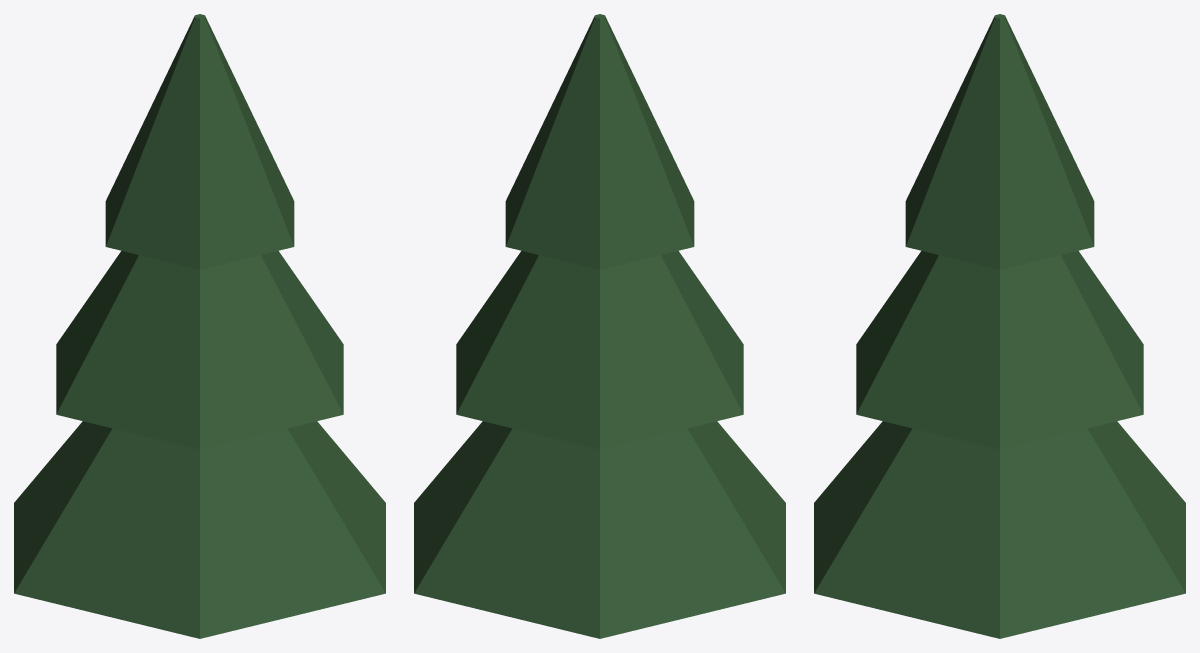
File: pine.glb
The picture shows the model from 3 angles, left to right: view 1: azimuth 30°, elevation 25°; view 2: azimuth 150°, elevation 25°; view 3: azimuth 270°, elevation 25°; orthographic projection.
Visible parts, largest first — view 1: Tier0, Tier1, Tier2; view 2: Tier0, Tier1, Tier2; view 3: Tier0, Tier1, Tier2.
Boxes of the visible parts, <box> form: Tier0: <box>14,421,385,638</box>; Tier1: <box>56,251,343,449</box>; Tier2: <box>105,14,294,269</box>; Tier0: <box>414,421,785,638</box>; Tier1: <box>456,251,743,449</box>; Tier2: <box>505,14,694,269</box>; Tier0: <box>814,421,1185,638</box>; Tier1: <box>856,251,1143,449</box>; Tier2: <box>905,14,1094,269</box>.
Size of the model in its own units: 1.5 by 2.3 by 1.3.
